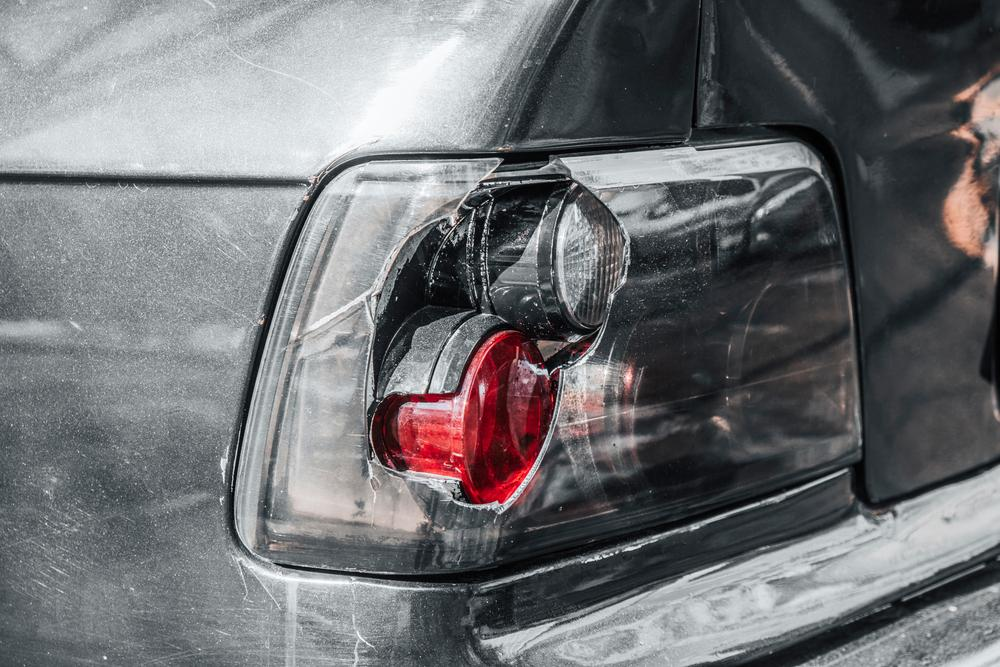lamp broken: (230, 139, 864, 579)
